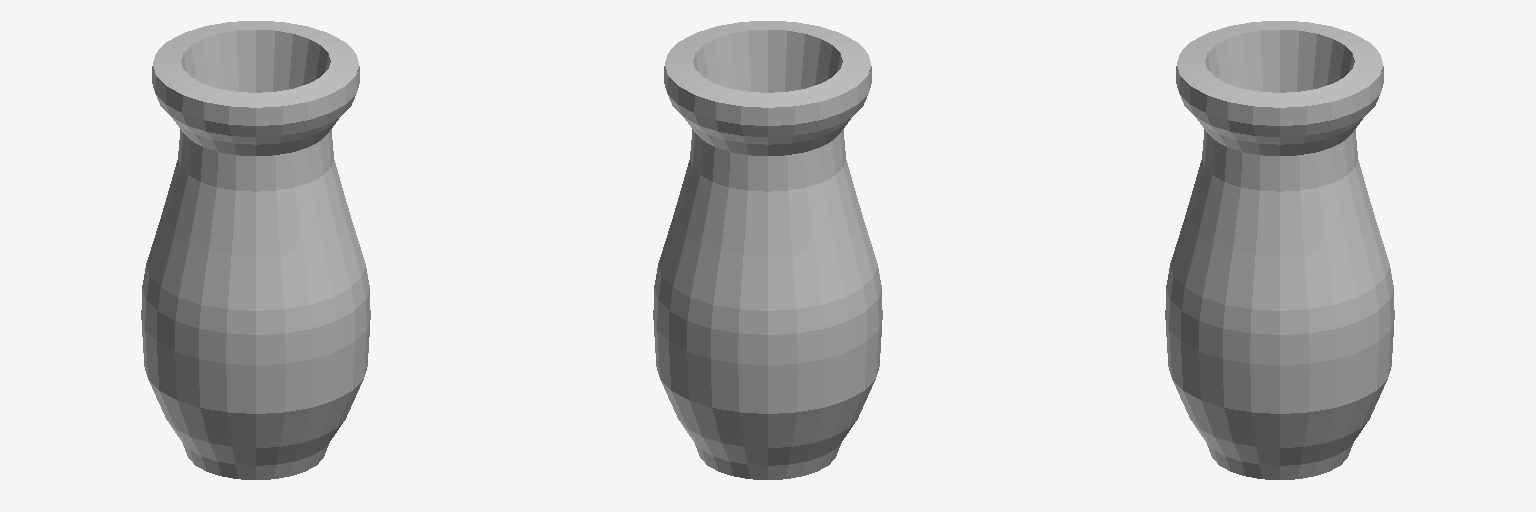
The model's file is potA.obj.
3 views of the same model, side by side, from view 1: azimuth 30°, elevation 25°; view 2: azimuth 150°, elevation 25°; view 3: azimuth 270°, elevation 25° (orthographic).
Parts seen in each view (by area): view 1: potA_Cylinder.016; view 2: potA_Cylinder.016; view 3: potA_Cylinder.016.
Part boxes in pixels (x1,y1,x2,y2): potA_Cylinder.016: (141,21,370,479); potA_Cylinder.016: (653,21,882,479); potA_Cylinder.016: (1165,21,1394,479).
Bounding box in the file's own units: 0.5242 × 0.9821 × 0.5242.